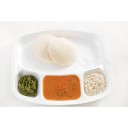idly: (50, 38, 75, 65), (34, 33, 56, 61)
